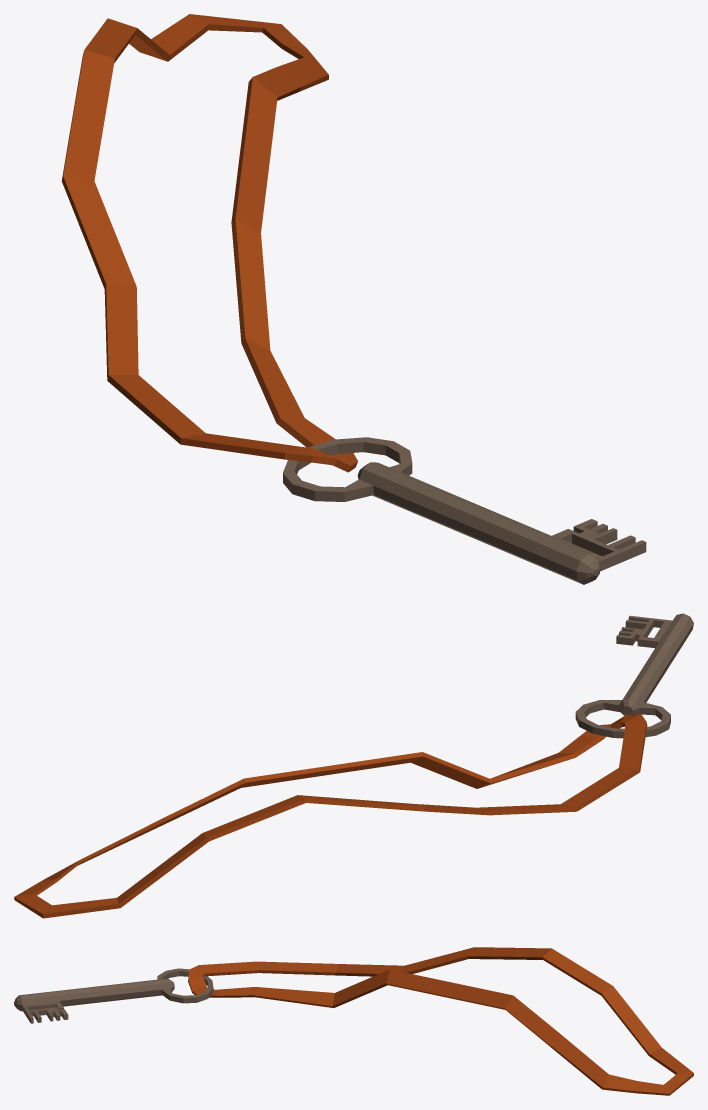
File: Clef_Cordon.FBX
The picture shows the model from 3 angles, top to bottom: view 1: azimuth 30°, elevation 25°; view 2: azimuth 150°, elevation 25°; view 3: azimuth 270°, elevation 25°; orthographic projection. The views are drawn at different scales.
Visible parts, largest first — view 1: cordon_A001, Clef; view 2: cordon_A001, Clef; view 3: cordon_A001, Clef.
Part boxes in pixels (x1,y1,x2,y2): cordon_A001: (61, 14, 357, 472); Clef: (283, 437, 646, 584); cordon_A001: (14, 714, 647, 918); Clef: (575, 613, 693, 738); cordon_A001: (188, 947, 693, 1095); Clef: (14, 968, 213, 1023).
Size of the model in its own units: 17.42 by 4.58 by 39.87.
1 material, 1 textured.
